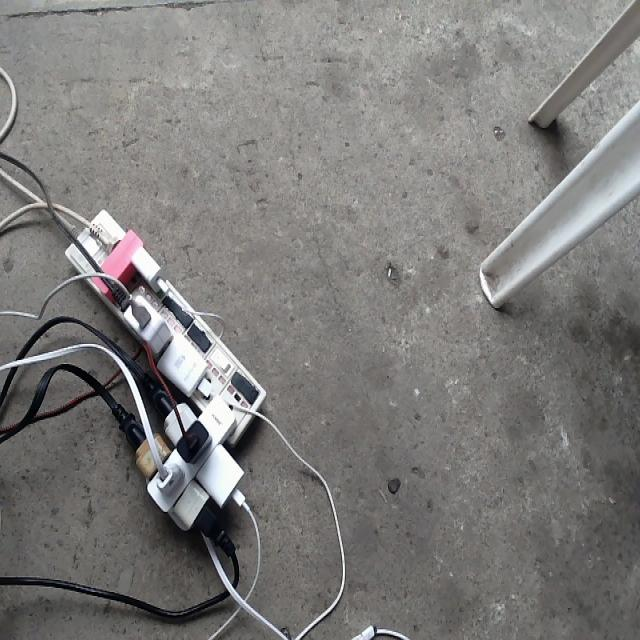-: (62, 208, 266, 555)
